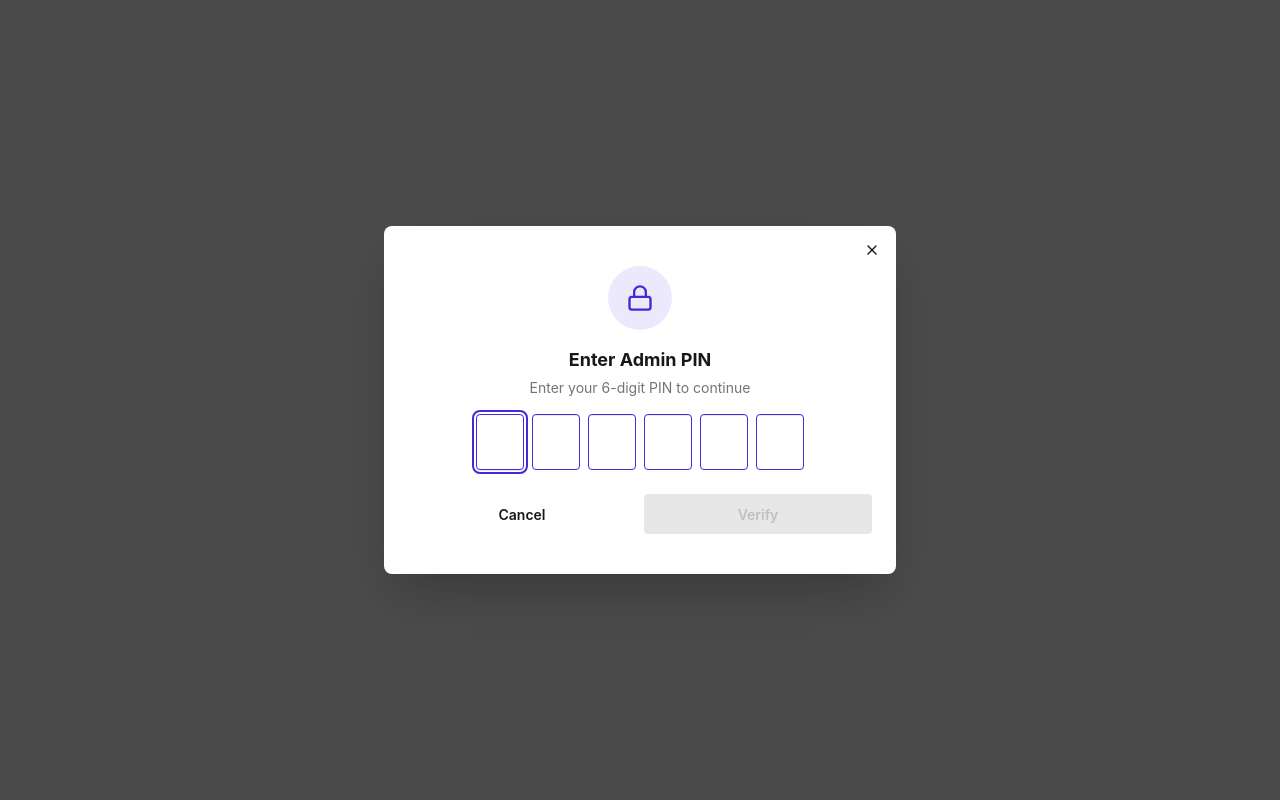
it: AdminPinModal › shows error on incorrect PIN
Type "0" into the 1st field.
click(500, 442); type("0")  # box [476,414,524,470]
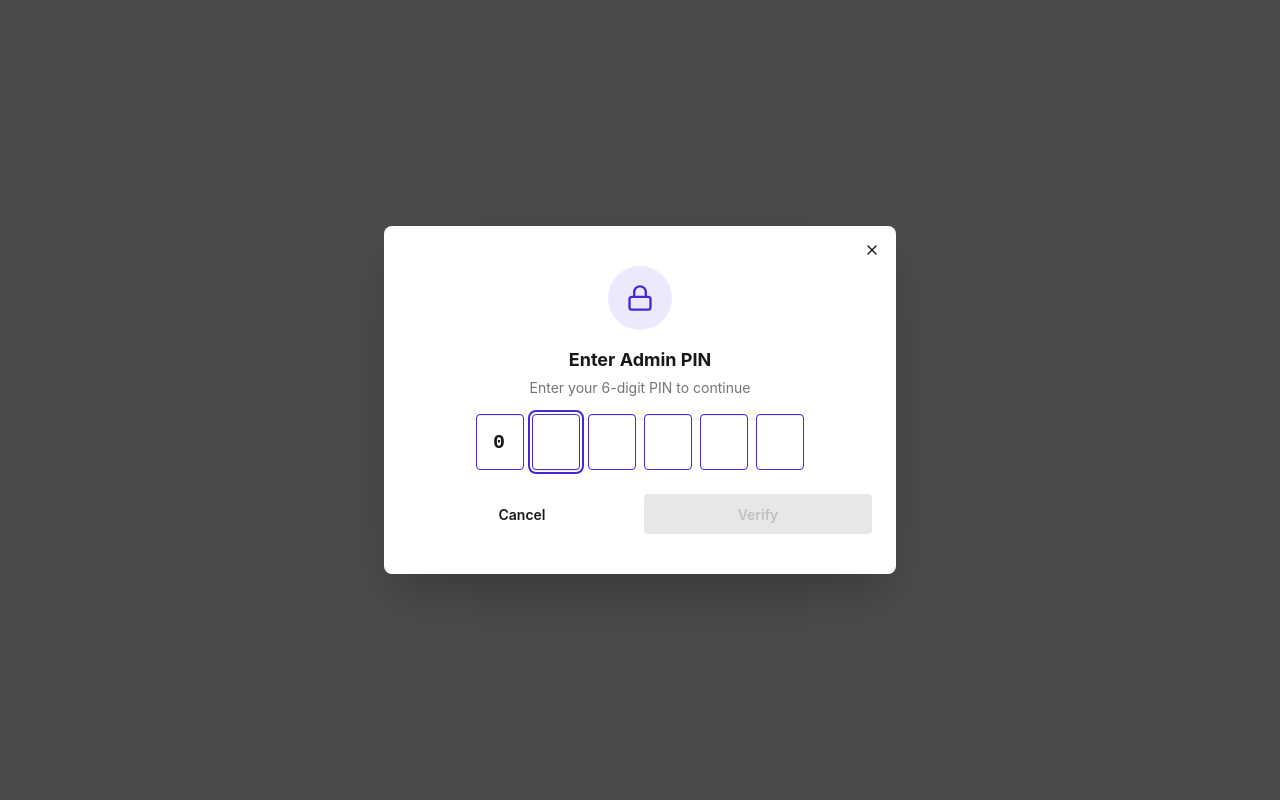
Type "0" into the 2nd field.
click(556, 442); type("0")  # box [532,414,580,470]
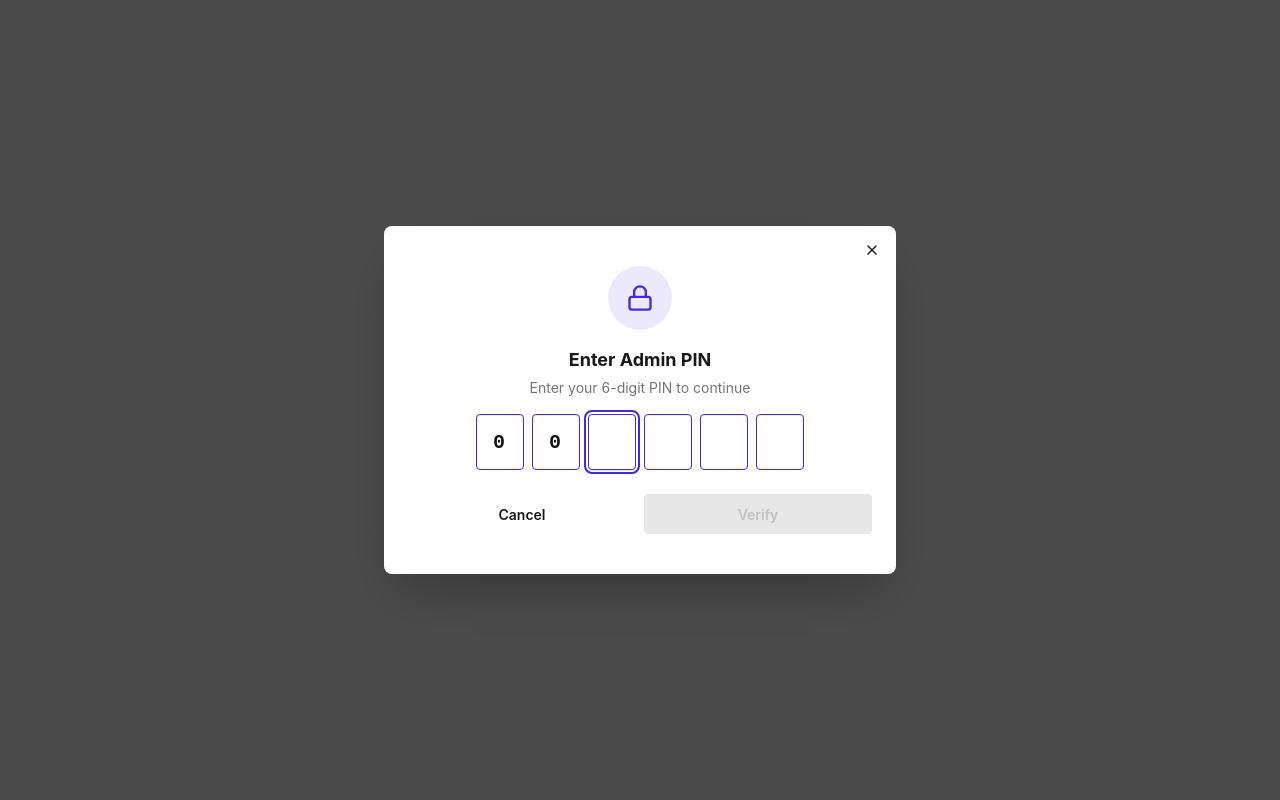
Type "0" into the 3rd field.
click(612, 442); type("0")  # box [588,414,636,470]
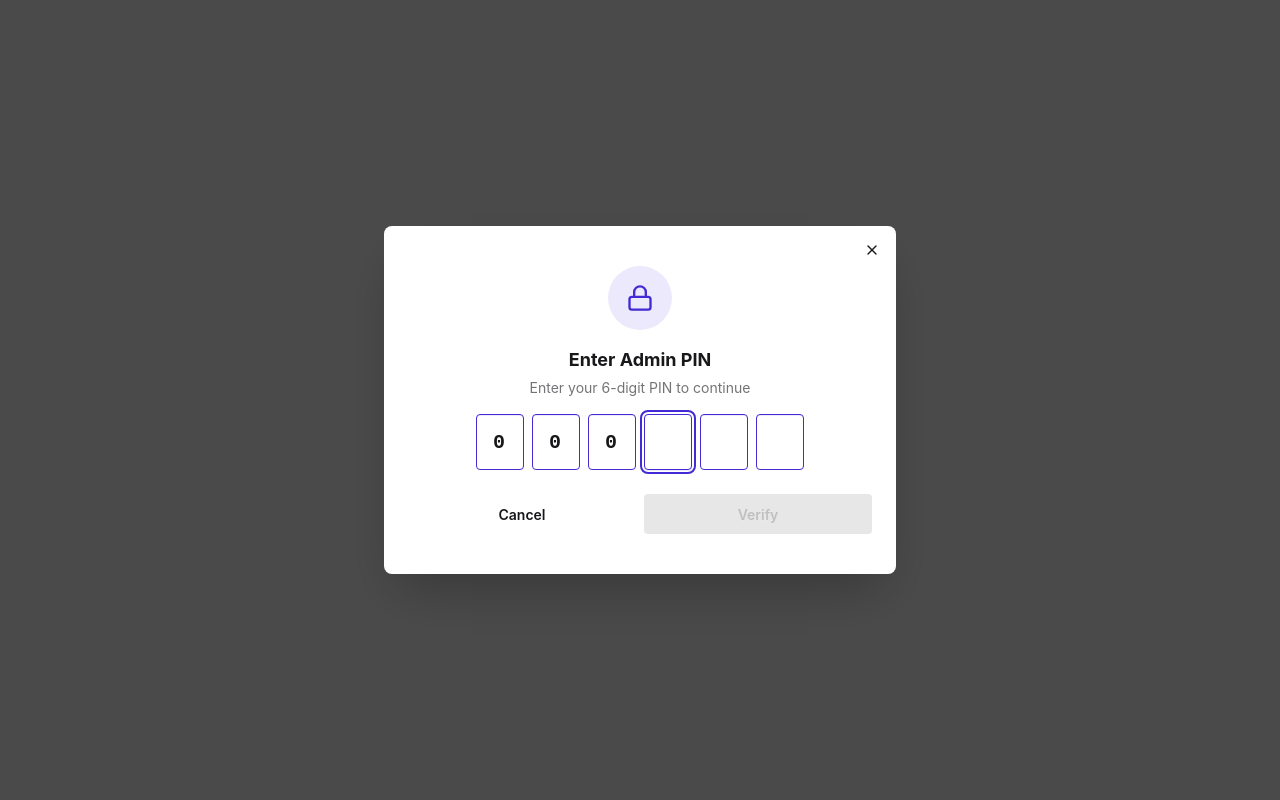
Type "0" into the 4th field.
click(668, 442); type("0")  # box [644,414,692,470]
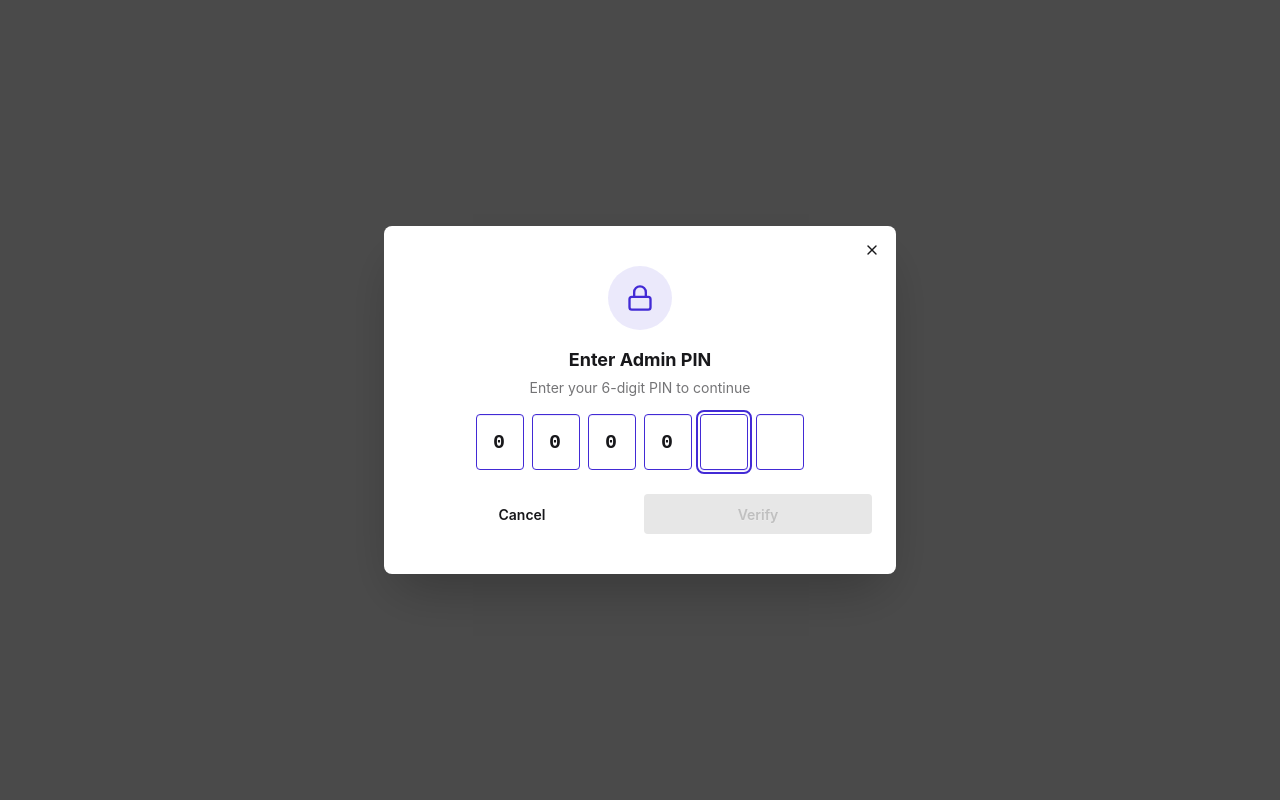
Type "0" into the 5th field.
click(724, 442); type("0")  # box [700,414,748,470]
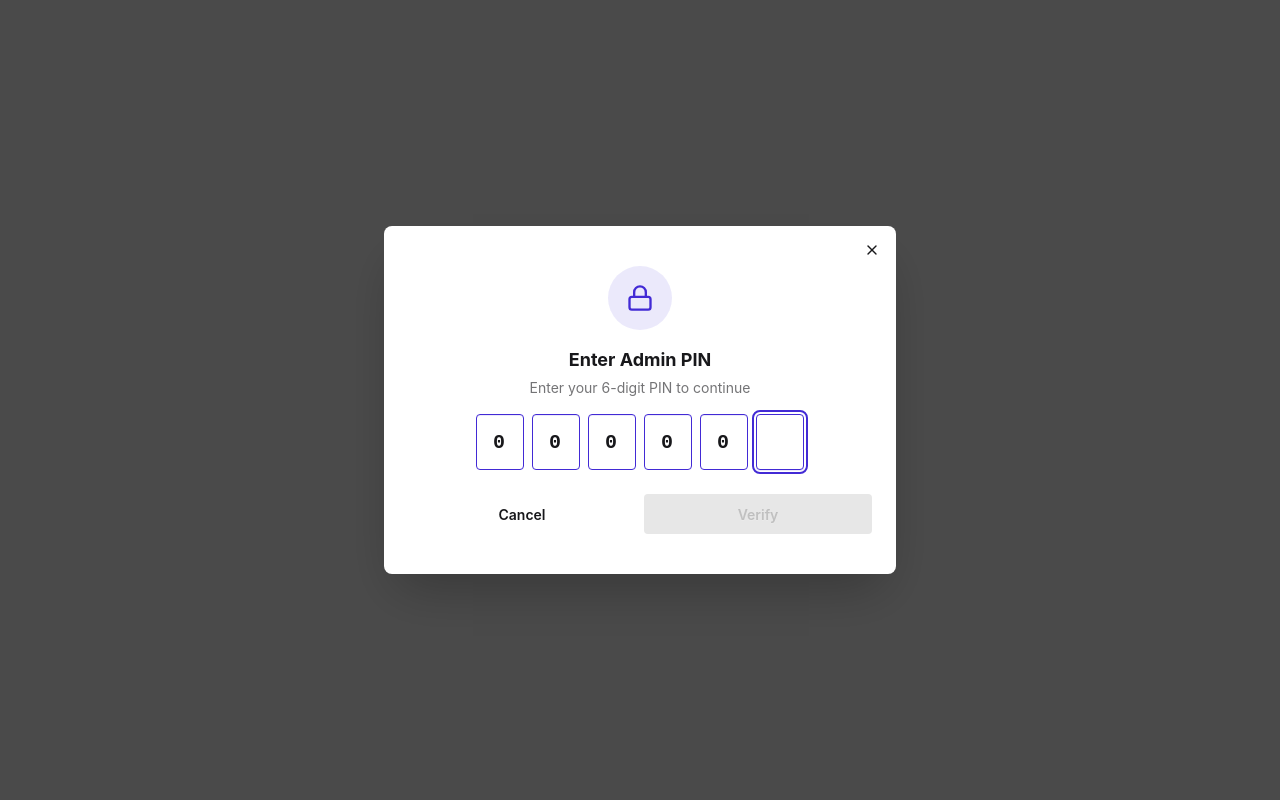
Type "0" into the 6th field.
click(780, 442); type("0")  # box [756,414,804,470]
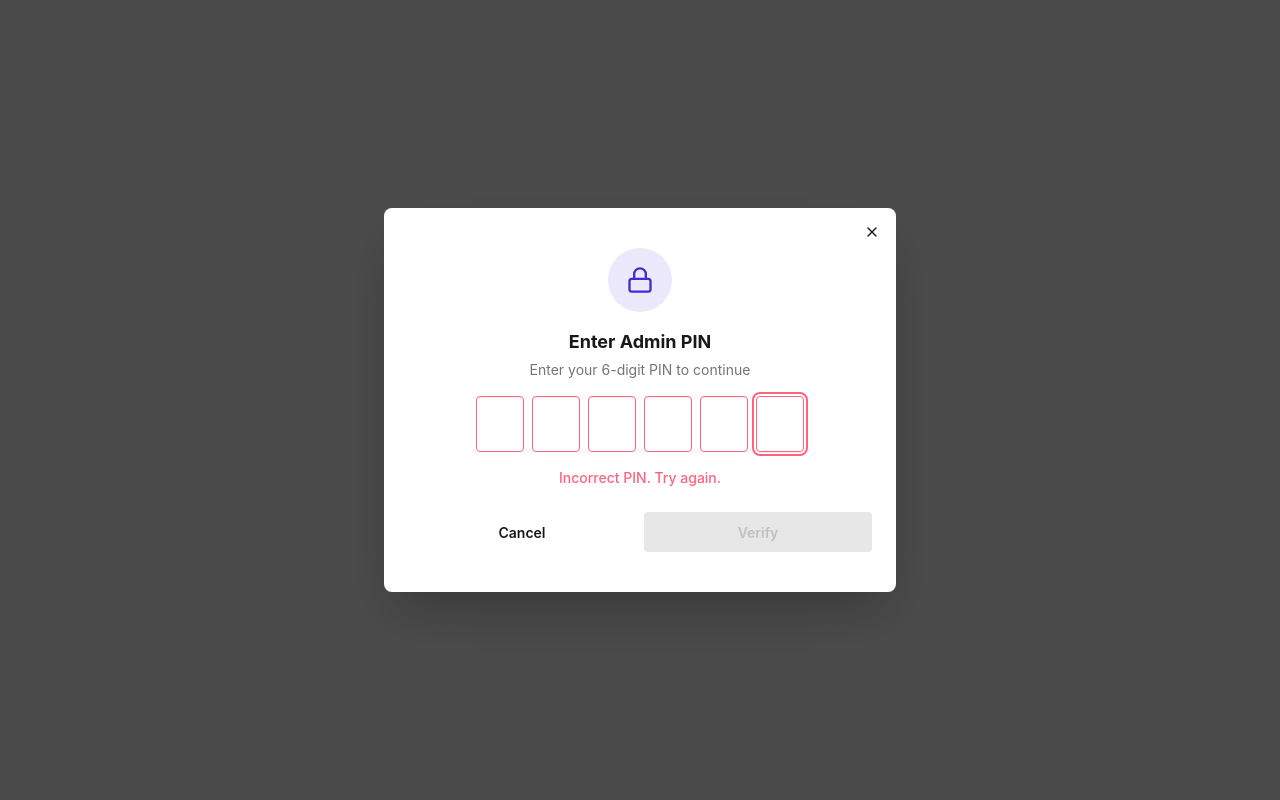
Result: the text "Incorrect PIN. Try again." is shown at [559,468,721,488]
